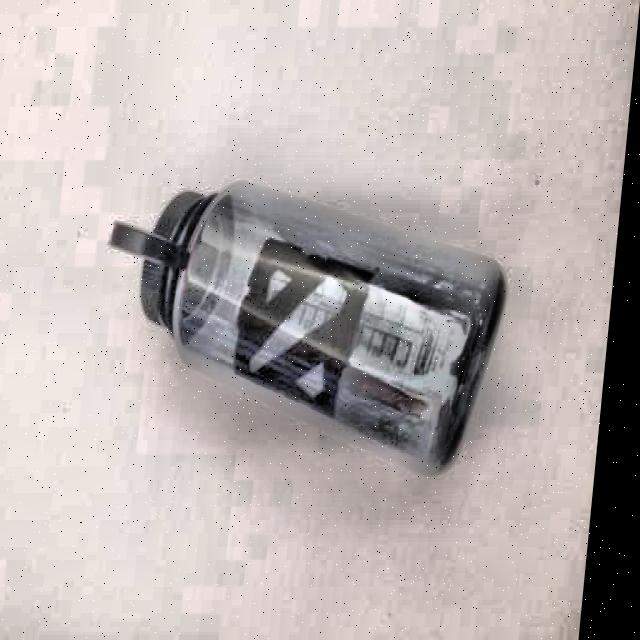plastic: (84, 174, 519, 481)
